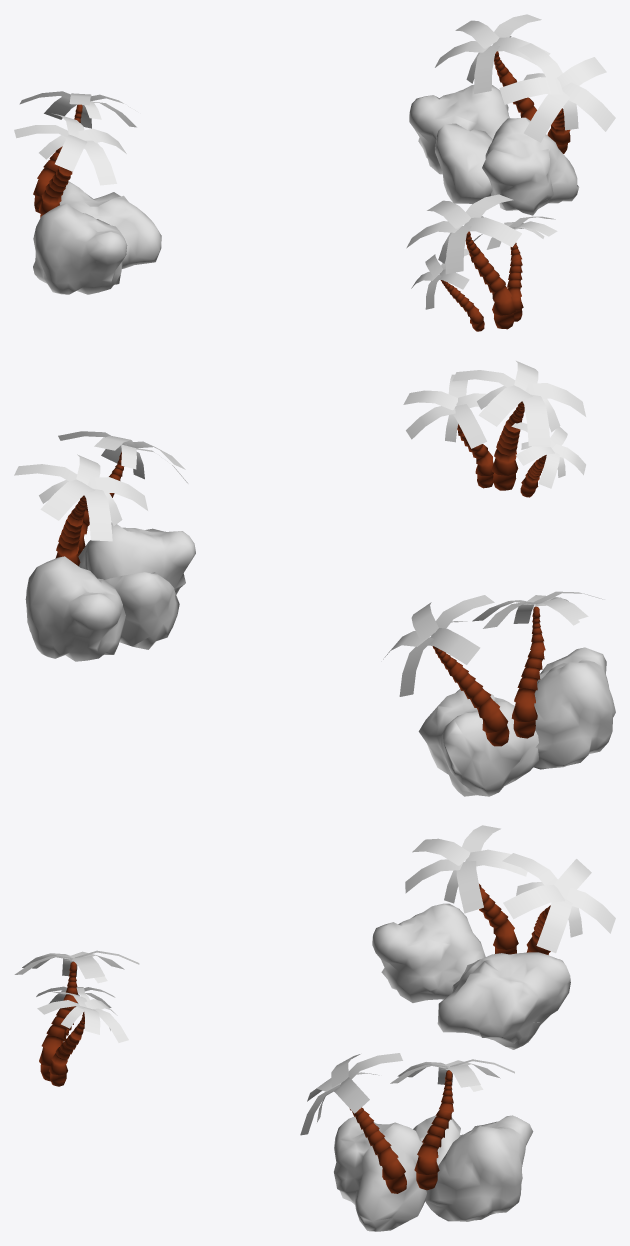
Rendered from props_desert.fbx.
The picture shows the model from 3 angles, top to bottom: view 1: azimuth 30°, elevation 25°; view 2: azimuth 150°, elevation 25°; view 3: azimuth 270°, elevation 25°; orthographic projection. The views are drawn at different scales.
Visible parts, largest first — view 1: Cube.000; view 2: Cube.000; view 3: Cube.000.
Part boxes in pixels (left/top/right/bottom): Cube.000: left=14, top=14, right=615, bottom=331; Cube.000: left=14, top=361, right=615, bottom=796; Cube.000: left=14, top=825, right=615, bottom=1231.
Bounding box in the file's own units: 169 × 53.39 × 160.
